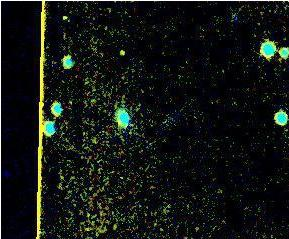star: (104, 38, 134, 68)
